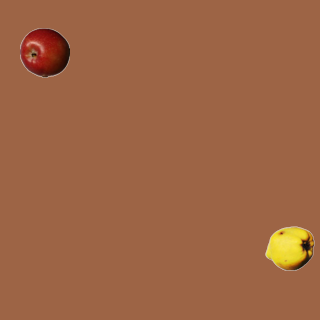Apple Braeburn: (19, 27, 69, 77)
Quince: (264, 223, 314, 273)
